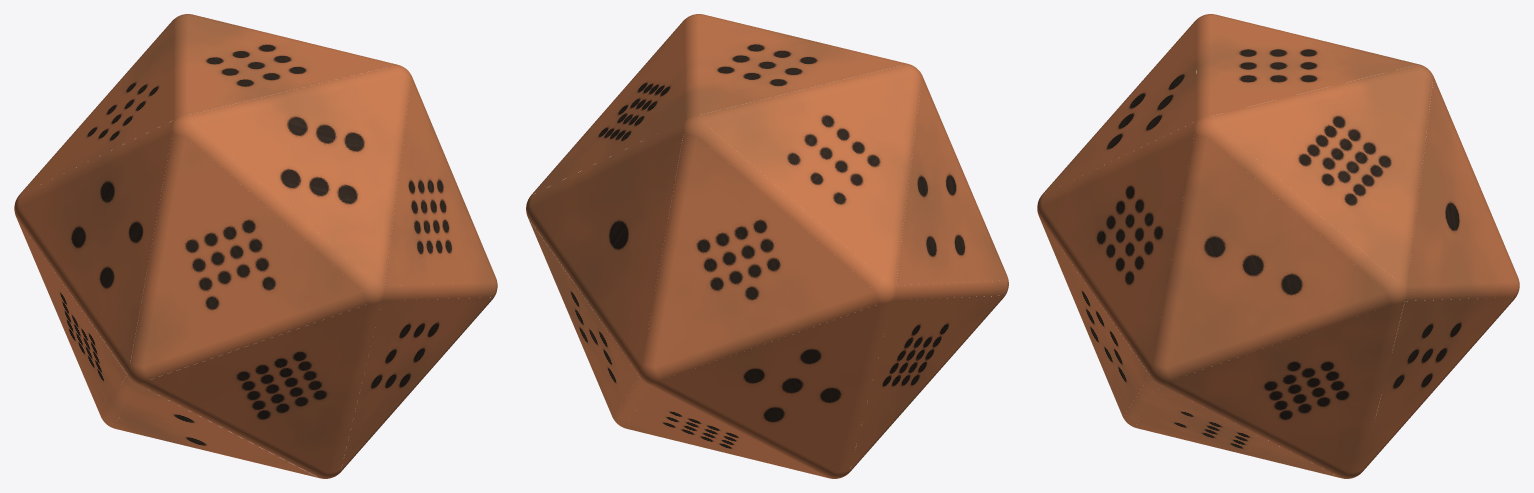
The model's file is die-1.glb.
The picture shows the model from 3 angles, left to right: view 1: azimuth 30°, elevation 25°; view 2: azimuth 150°, elevation 25°; view 3: azimuth 270°, elevation 25°; orthographic projection.
Parts seen in each view (by area): view 1: Die 1; view 2: Die 1; view 3: Die 1.
Boxes of the visible parts, left/top/right/bottom form: Die 1: left=14, top=14, right=497, bottom=478; Die 1: left=526, top=14, right=1008, bottom=478; Die 1: left=1037, top=14, right=1519, bottom=478.
Bounding box in the file's own units: 0.0582 × 0.0549 × 0.0663.
1 material, 1 textured.
